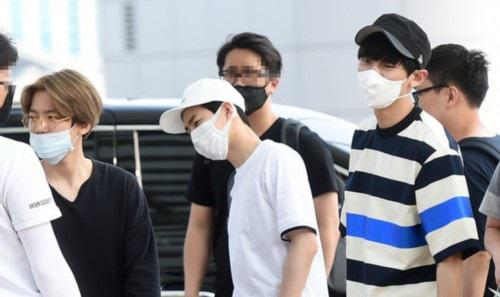OK: (354, 53, 411, 110), (184, 113, 230, 159)
WRONG: (26, 108, 81, 163), (222, 65, 271, 116)
